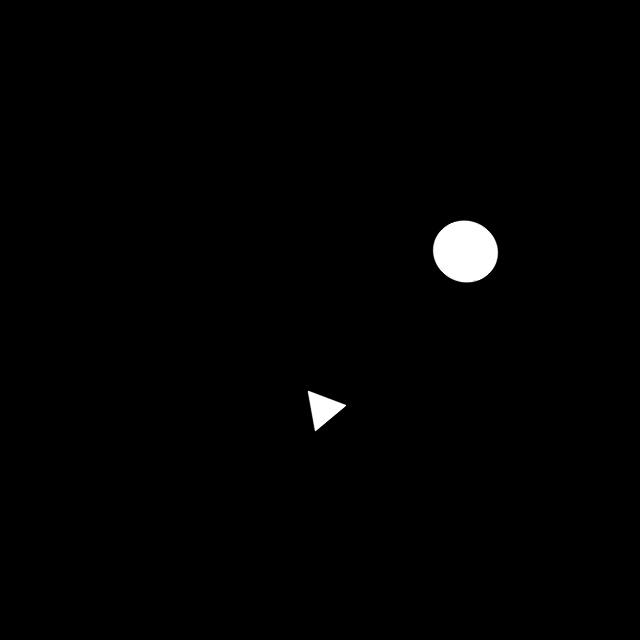Circle: (426, 213, 502, 290)
Triangle: (292, 380, 356, 440)
